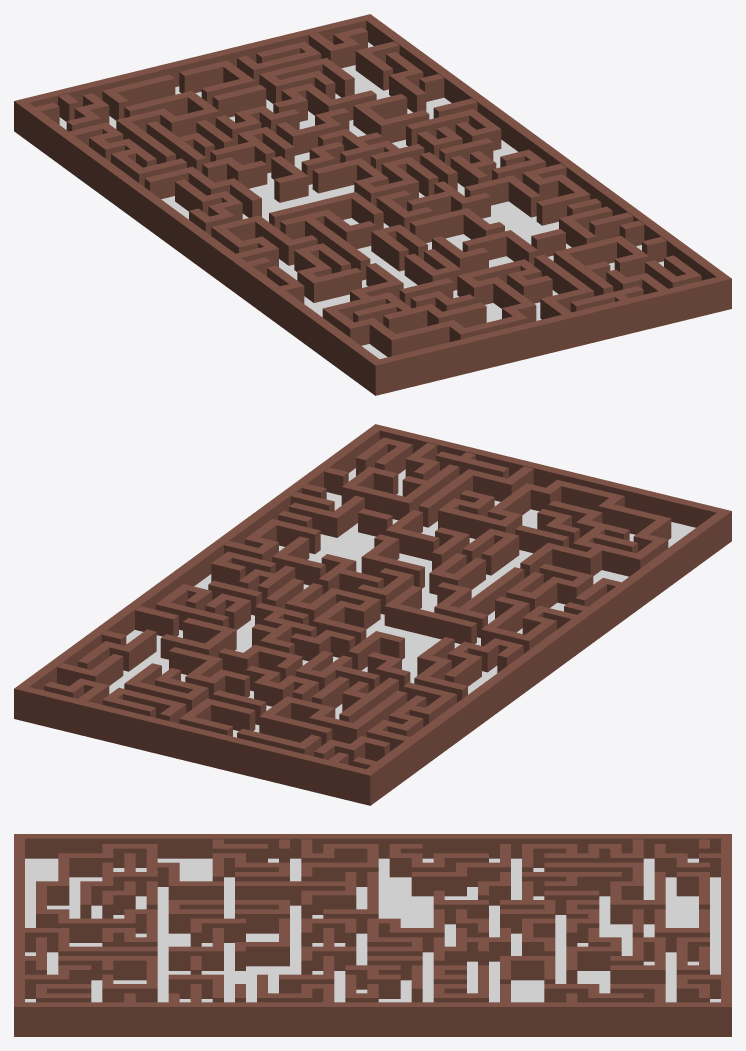
File: Maze 5.fbx
3 renders of one model, top to bottom at view 1: azimuth 30°, elevation 25°; view 2: azimuth 150°, elevation 25°; view 3: azimuth 270°, elevation 25°, orthographic.
Visible parts, largest first — view 1: Corners, Walls.064, Floor, Walls.032, Walls.016, Walls.058, Walls.048, Walls.047, Walls.051, Walls.020, Walls.014, Walls.036 (+46 smaller); view 2: Corners, Walls.064, Floor, Walls.016, Walls.058, Walls.032, Walls.048, Walls.020, Walls.046, Walls.047, Walls.051, Walls.061 (+46 smaller); view 3: Corners, Floor, Walls.064, Walls.016, Walls.047, Walls.058, Walls.048, Walls.032, Walls.030, Walls.020, Walls.014, Walls.027 (+45 smaller).
Boxes of the visible parts, x1,y1,x2,y2 form: Corners: [14, 14, 731, 395]; Walls.064: [322, 259, 552, 356]; Floor: [59, 42, 663, 359]; Walls.032: [312, 157, 438, 206]; Walls.016: [116, 90, 219, 164]; Walls.058: [553, 236, 648, 296]; Walls.048: [211, 215, 317, 266]; Walls.047: [280, 209, 375, 280]; Walls.051: [294, 243, 361, 302]; Walls.020: [69, 122, 186, 186]; Walls.014: [259, 58, 354, 103]; Walls.036: [522, 163, 590, 225]; Corners: [14, 424, 731, 805]; Walls.064: [438, 479, 671, 578]; Floor: [109, 468, 695, 737]; Walls.016: [259, 690, 407, 745]; Walls.058: [341, 464, 459, 520]; Walls.032: [285, 583, 380, 645]; Walls.048: [481, 596, 576, 653]; Walls.020: [366, 682, 456, 751]; Walls.046: [384, 585, 476, 643]; Walls.047: [434, 567, 524, 637]; Walls.051: [506, 563, 593, 611]; Walls.061: [419, 466, 533, 527]; Corners: [14, 834, 731, 1036]; Floor: [25, 858, 720, 1002]; Walls.064: [36, 844, 223, 946]; Walls.016: [544, 862, 665, 924]; Walls.047: [235, 872, 356, 918]; Walls.058: [58, 956, 157, 1002]; Walls.048: [301, 839, 378, 886]; Walls.032: [367, 909, 444, 955]; Walls.030: [411, 844, 510, 896]; Walls.020: [522, 839, 643, 871]; Walls.014: [610, 937, 665, 983]; Walls.027: [433, 928, 510, 965].
Bounding box in the file's own units: 7400 × 600 × 13000.
